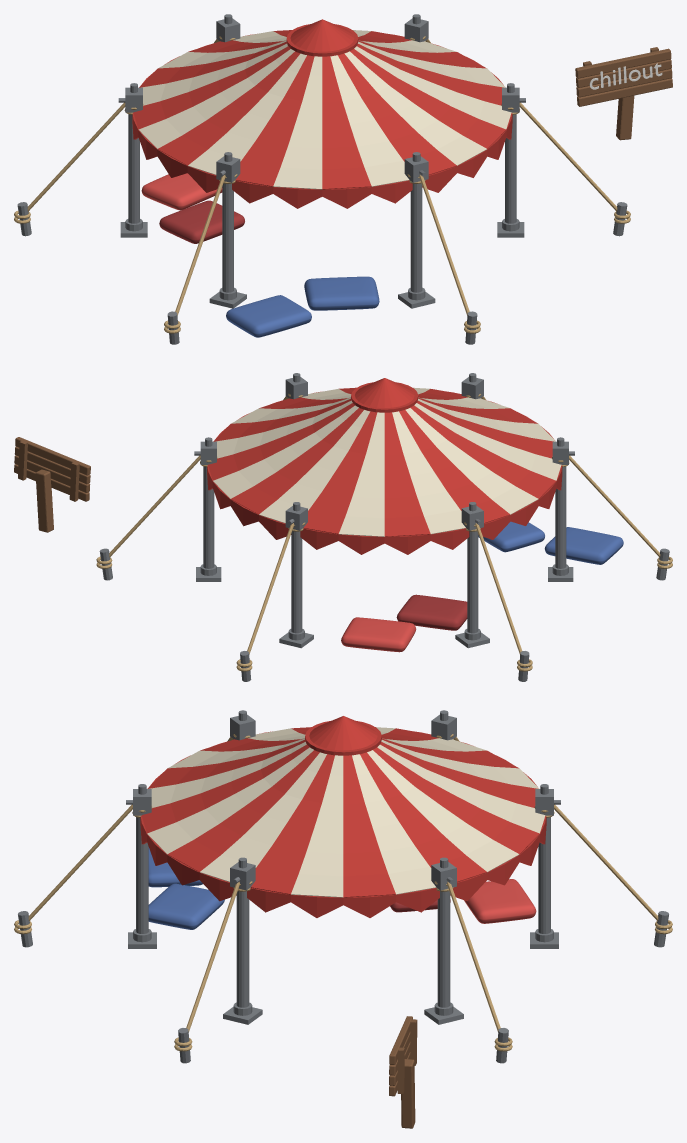
Rendered from SM_ChilloutTent.fbx.
3 views of the same model, one above another, from view 1: azimuth 30°, elevation 25°; view 2: azimuth 150°, elevation 25°; view 3: azimuth 270°, elevation 25° (orthographic). The views are drawn at different scales.
Parts seen in each view (by area): view 1: SM_Tent_Canopy, SM_Tent_Frame, SM_Cushions, SM_Sign, SM_Tent_Rigging; view 2: SM_Tent_Canopy, SM_Tent_Frame, SM_Cushions, SM_Tent_Rigging, SM_Sign; view 3: SM_Tent_Canopy, SM_Tent_Frame, SM_Cushions, SM_Tent_Rigging, SM_Sign.
Boxes of the visible parts, x1,y1,x2,y2 form: SM_Tent_Canopy: [132, 19, 512, 208]; SM_Tent_Frame: [118, 14, 525, 308]; SM_Cushions: [141, 173, 379, 337]; SM_Sign: [575, 47, 672, 140]; SM_Tent_Rigging: [14, 36, 630, 344]; SM_Tent_Canopy: [207, 378, 562, 554]; SM_Tent_Frame: [194, 373, 574, 648]; SM_Cushions: [341, 521, 623, 652]; SM_Tent_Rigging: [96, 393, 672, 681]; SM_Sign: [14, 437, 90, 532]; SM_Tent_Canopy: [140, 716, 546, 917]; SM_Tent_Frame: [126, 710, 560, 1024]; SM_Cushions: [148, 847, 536, 929]; SM_Tent_Rigging: [14, 734, 672, 1063]; SM_Sign: [389, 1016, 417, 1128].
Size of the model in its own units: 1596 by 560 by 1409.
